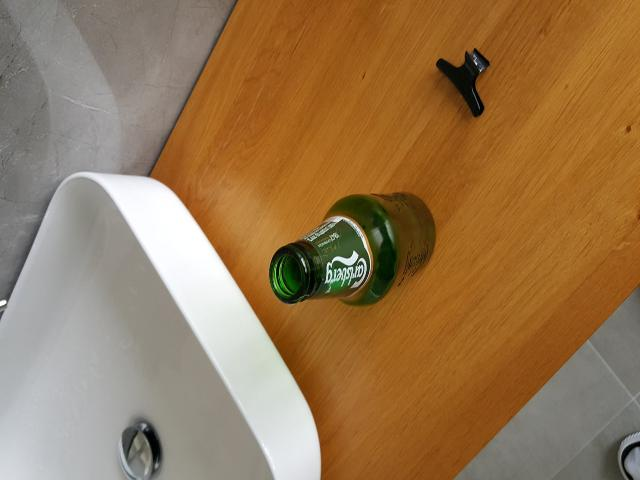beer: (270, 194, 437, 304)
